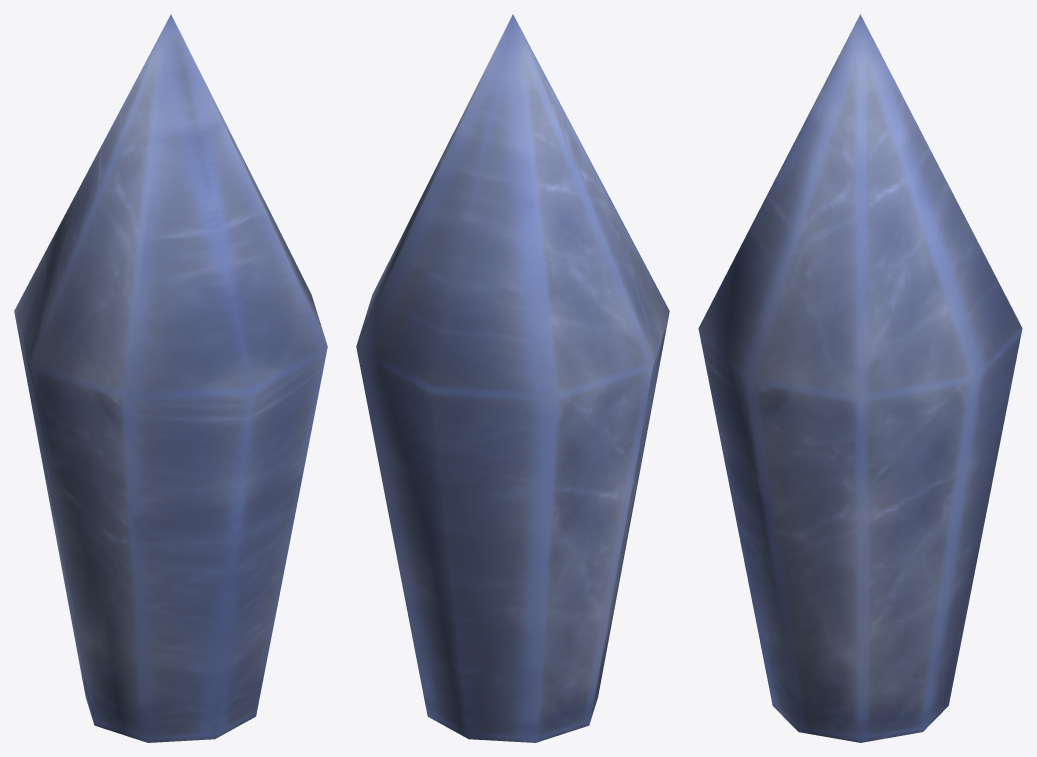
The model's file is crystal.obj.
3 views of the same model, side by side, from view 1: azimuth 30°, elevation 25°; view 2: azimuth 150°, elevation 25°; view 3: azimuth 270°, elevation 25° (orthographic).
Visible parts, largest first — view 1: crystals_Circle; view 2: crystals_Circle; view 3: crystals_Circle.
Part boxes in pixels (x1,y1,x2,y2): crystals_Circle: (14,14,327,742); crystals_Circle: (356,14,669,742); crystals_Circle: (698,14,1022,742).
Size of the model in its own units: 1.72 by 4.06 by 1.72.
